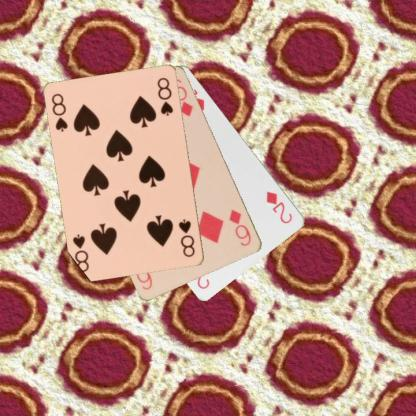2d: (264, 188, 294, 226)
6d: (226, 207, 252, 248)
8s: (176, 217, 197, 259), (49, 91, 69, 133)
